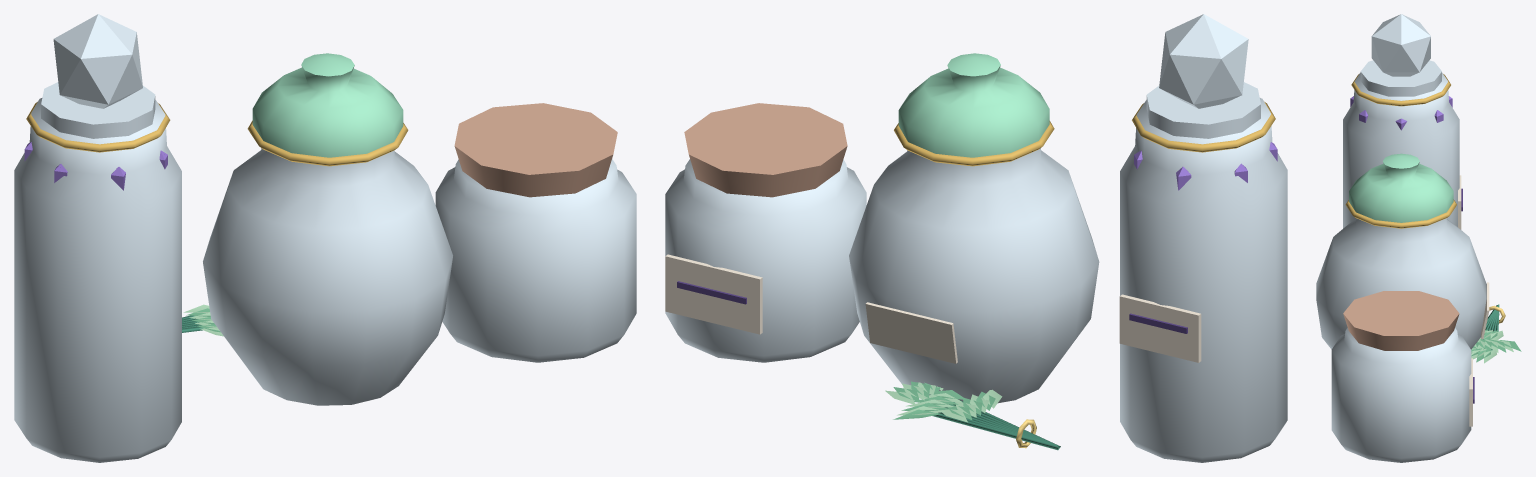
Rendered from herb_bell_jars.glb.
3 views of the same model, side by side, from view 1: azimuth 30°, elevation 25°; view 2: azimuth 150°, elevation 25°; view 3: azimuth 270°, elevation 25° (orthographic). The views are drawn at different scales.
Visible parts, largest first — view 1: herb_bell_jars; view 2: herb_bell_jars; view 3: herb_bell_jars.
Boxes of the visible parts, x1,y1,x2,y2 form: herb_bell_jars: [14, 14, 636, 462]; herb_bell_jars: [665, 14, 1287, 462]; herb_bell_jars: [1316, 14, 1521, 462].
Size of what is drawn, in the model's own units: 0.45 by 0.3 by 0.2.
